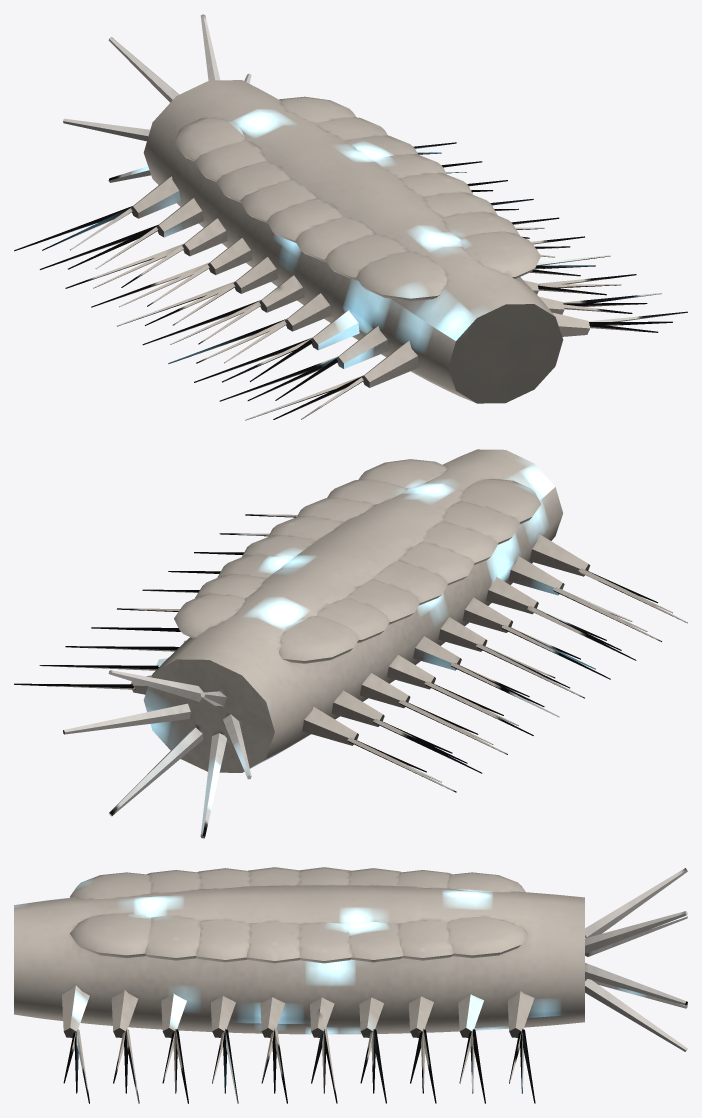
Rendered from polynoid_scale_worm.glb.
3 renders of one model, top to bottom at view 1: azimuth 30°, elevation 25°; view 2: azimuth 150°, elevation 25°; view 3: azimuth 270°, elevation 25°, orthographic. The views are drawn at different scales.
Visible parts, largest first — view 1: polynoid_scale_worm; view 2: polynoid_scale_worm; view 3: polynoid_scale_worm.
Boxes of the visible parts, box(x1,y1,x2,y2) form: polynoid_scale_worm: box(14, 14, 687, 420); polynoid_scale_worm: box(14, 449, 687, 838); polynoid_scale_worm: box(14, 867, 687, 1103).
Bounding box in the file's own units: 0.3101 × 0.0977 × 0.4249.
2 materials, 2 textured.
